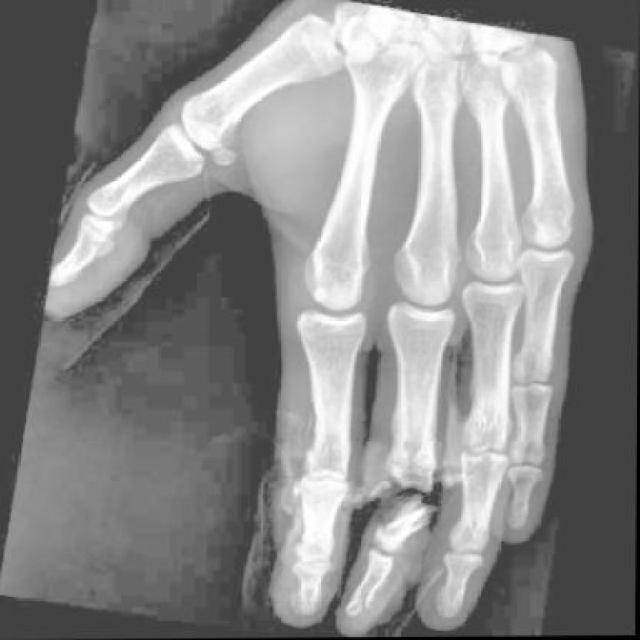Fracture: (368, 468, 435, 558), (340, 563, 385, 625)
